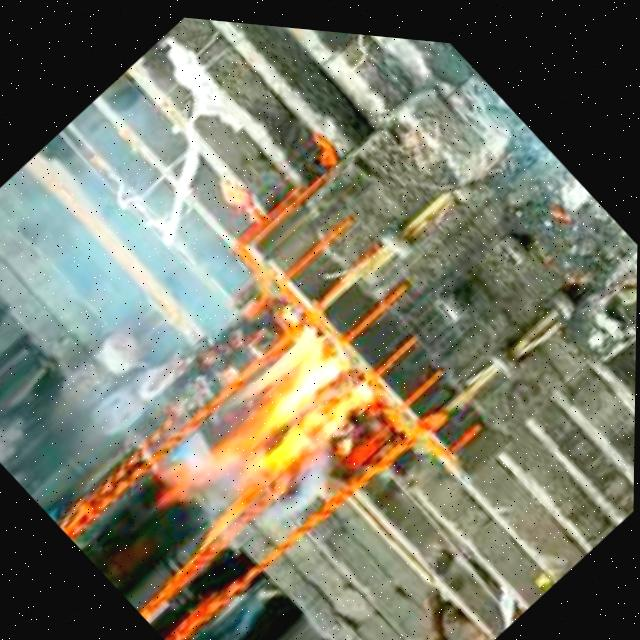Fire: (153, 293, 391, 549)
